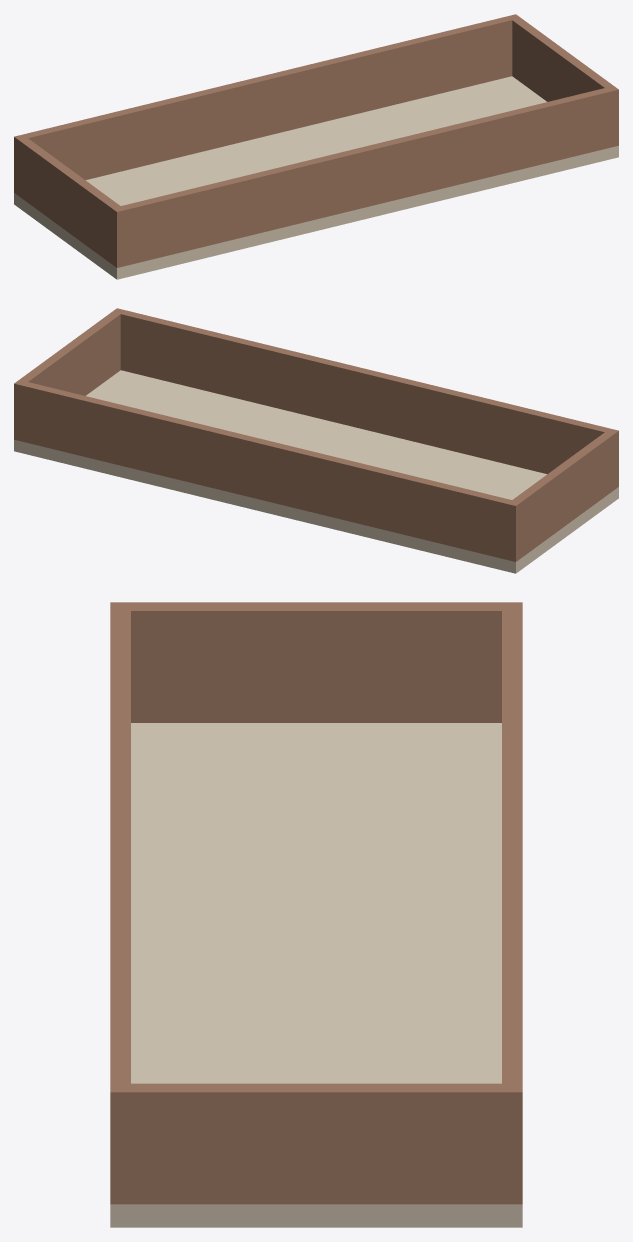
The picture shows the model from 3 angles, top to bottom: view 1: azimuth 30°, elevation 25°; view 2: azimuth 150°, elevation 25°; view 3: azimuth 270°, elevation 25°; orthographic projection. The views are drawn at different scales.
Visible parts, largest first — view 1: storage-upper-front, storage-upper-back, storage-roof, storage-upper-left, storage-upper-right; view 2: storage-upper-back, storage-upper-front, storage-roof, storage-upper-left, storage-upper-right; view 3: storage-roof, storage-upper-right, storage-upper-left, storage-upper-back, storage-upper-front.
Part boxes in pixels (x1,y1,x2,y2): storage-upper-front: (121, 88, 609, 265); storage-upper-back: (23, 16, 512, 180); storage-roof: (14, 76, 618, 279); storage-upper-left: (14, 134, 125, 267); storage-upper-right: (507, 14, 618, 147); storage-upper-back: (23, 382, 511, 559); storage-upper-front: (120, 310, 609, 474); storage-roof: (14, 370, 618, 573); storage-upper-left: (507, 428, 618, 561); storage-upper-right: (14, 308, 125, 441); storage-roof: (110, 723, 522, 1227); storage-upper-right: (110, 1083, 522, 1204); storage-upper-left: (110, 602, 522, 722); storage-upper-back: (502, 611, 522, 1083); storage-upper-front: (110, 611, 130, 1083).
Size of the model in its own units: 0.45 by 0.058 by 0.16.
